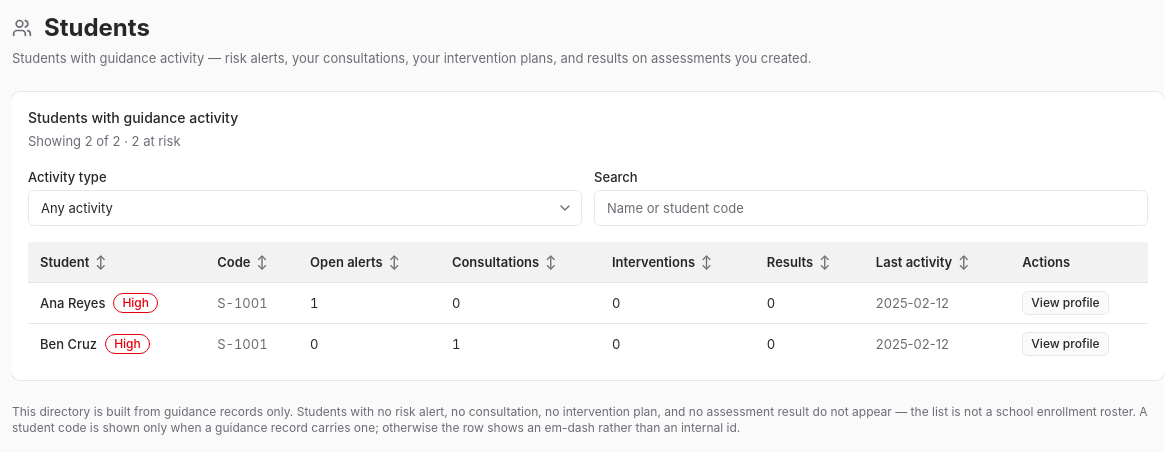
Scenario: StudentsPage › filters by activity type
Expected: the text "Ana Reyes" is shown, x1=40 y1=293 x2=105 y2=313
Press ArrowDown in the dropdown named "Activity type", box x1=28 y1=190 x2=582 y2=226
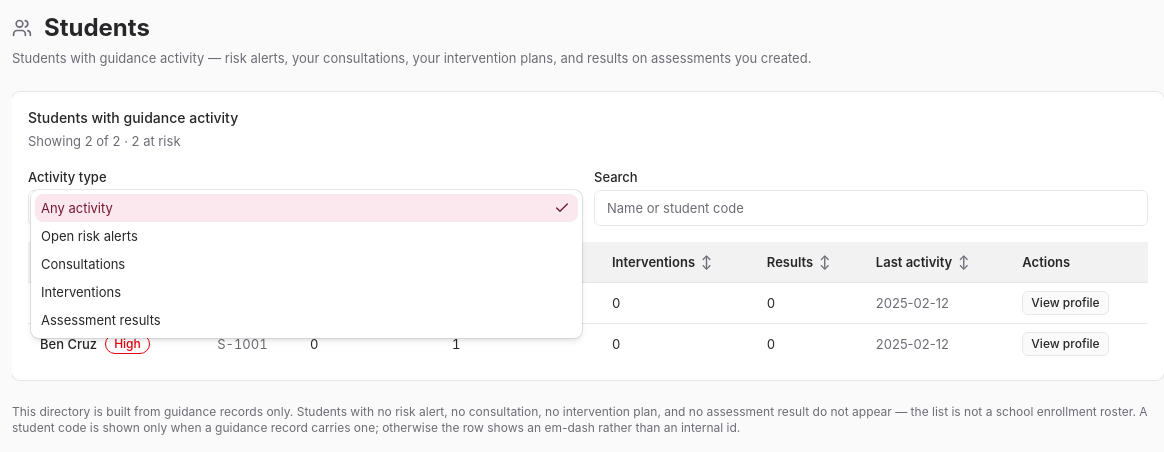
Click the option "Consultations" at [83, 264], box x1=41 y1=256 x2=125 y2=272
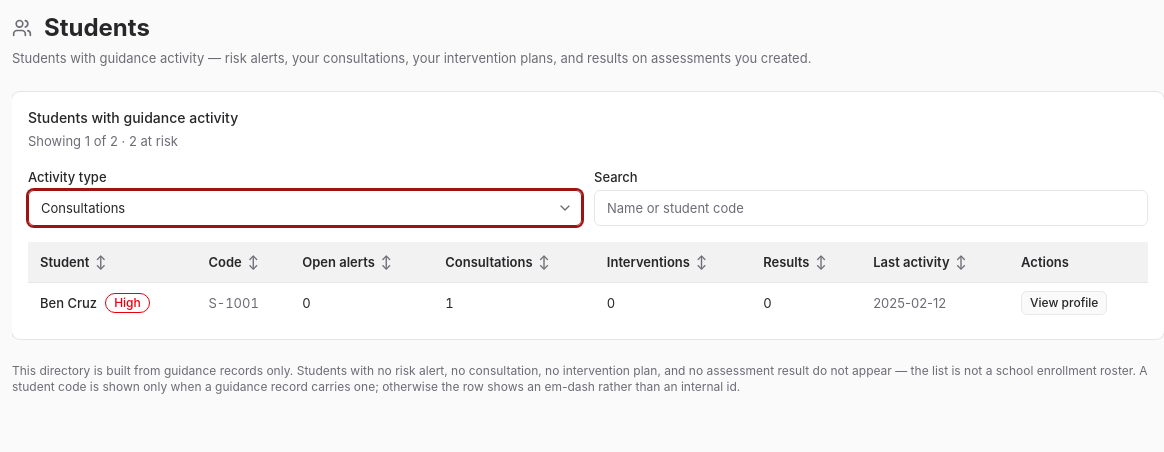
Expected: the text "Ben Cruz" is shown, x1=40 y1=293 x2=97 y2=313
Expected: the text "Ana Reyes" is gone
